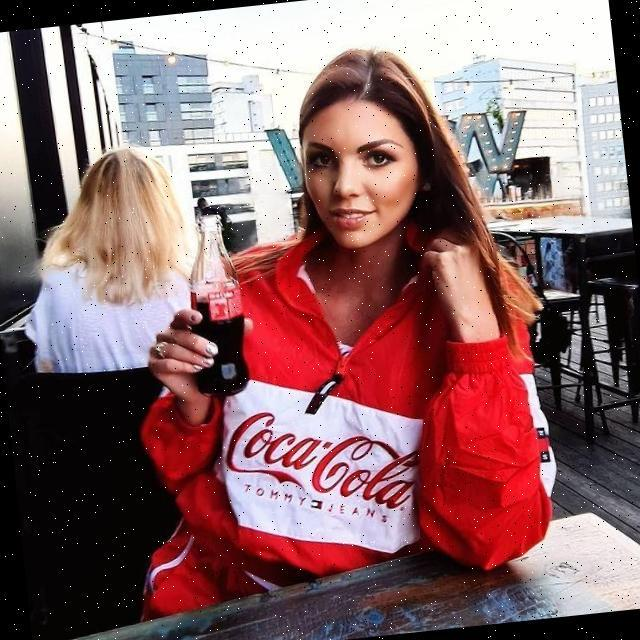coca-cola: (179, 211, 254, 402)
